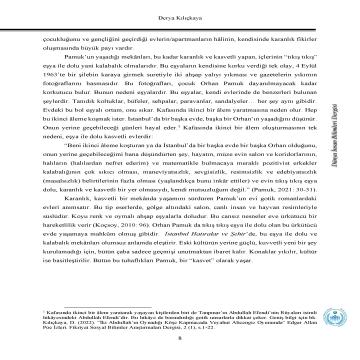footer: (39, 309, 319, 331)
header: (156, 12, 209, 23)
